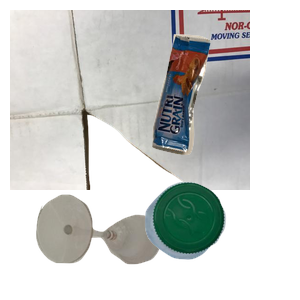cardboard: (10, 10, 250, 190)
glass: (34, 192, 187, 300)
plastic: (142, 179, 300, 300)
trash: (149, 31, 300, 179)
